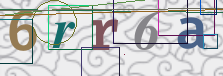6: (8, 7, 39, 53), (132, 11, 162, 51)
a: (176, 16, 207, 51)
r: (89, 19, 120, 51), (49, 19, 77, 49)
